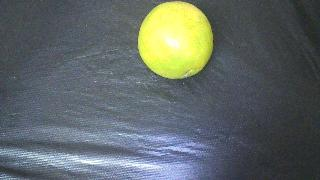LOCAL: (138, 1, 213, 79)
